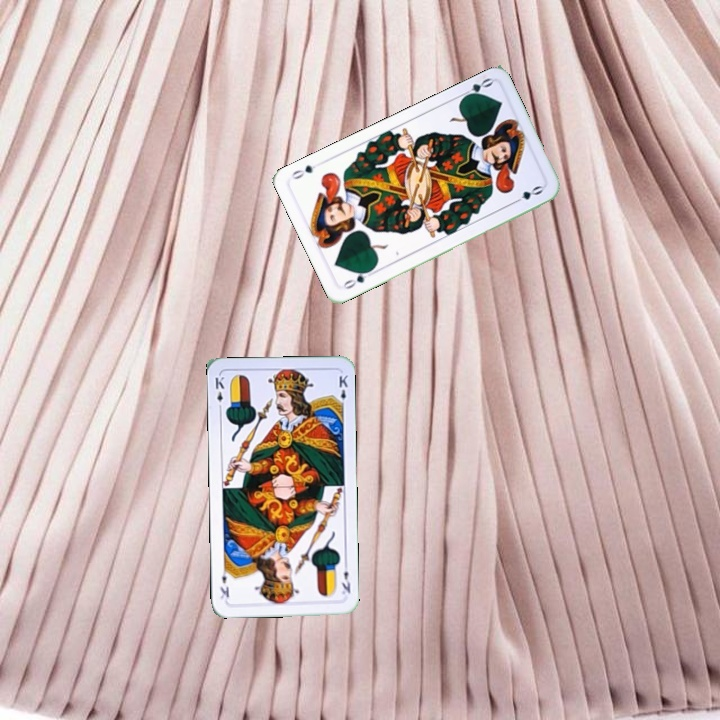EK: (211, 373, 226, 413), (338, 559, 353, 597)
GO: (456, 74, 495, 102), (339, 265, 375, 292)
